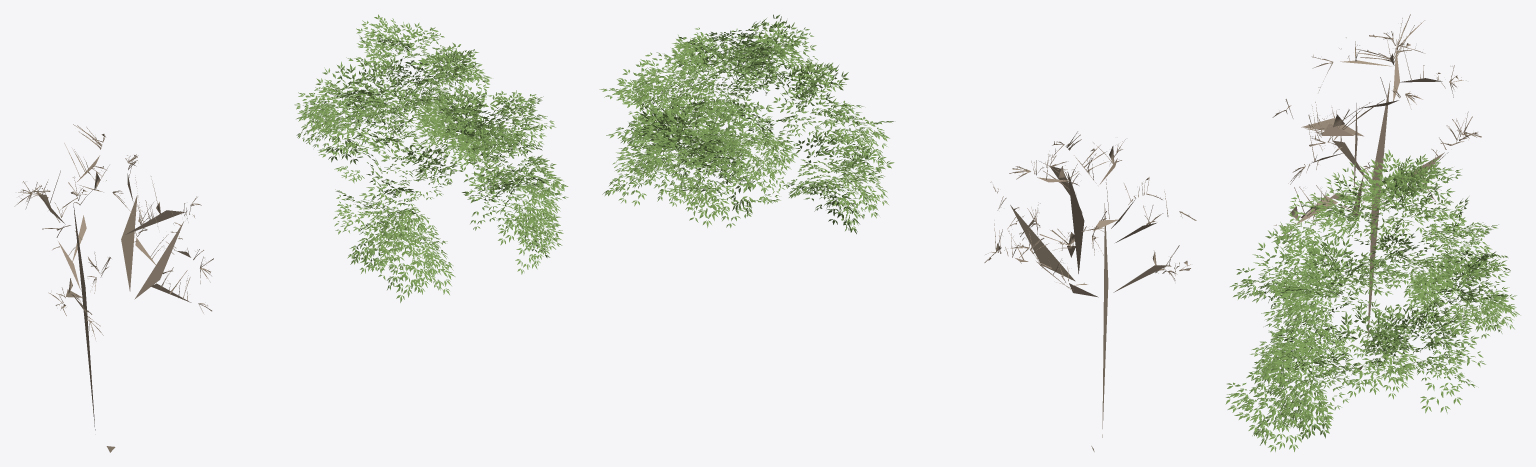
3 renders of one model, left to right at view 1: azimuth 30°, elevation 25°; view 2: azimuth 150°, elevation 25°; view 3: azimuth 270°, elevation 25°, orthographic. The views are drawn at different scales.
Visible parts, largest first — view 1: V25_LOD2_Foliage, V25_LOD2_Body; view 2: V25_LOD2_Foliage, V25_LOD2_Body; view 3: V25_LOD2_Foliage, V25_LOD2_Body.
Part boxes in pixels (x1,y1,x2,y2): V25_LOD2_Foliage: (294,14,568,302); V25_LOD2_Body: (14,124,213,452); V25_LOD2_Foliage: (599,14,894,233); V25_LOD2_Body: (984,131,1196,451); V25_LOD2_Foliage: (1225,149,1520,451); V25_LOD2_Body: (1272,14,1481,369).
Size of the model in its own units: 19.88 by 12.29 by 8.69.
